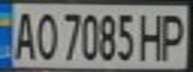0: (78, 9, 100, 62)
5: (115, 10, 139, 61)
7: (57, 8, 81, 62)
8: (97, 10, 118, 62)
A: (9, 7, 39, 61)
H: (136, 10, 169, 62)
O: (33, 8, 60, 61)
P: (157, 9, 190, 61)
